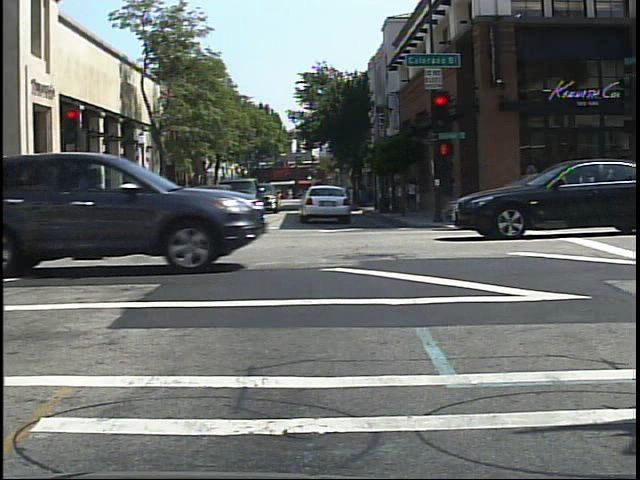person: (160, 181, 177, 217), (90, 188, 104, 229), (138, 182, 157, 212)
